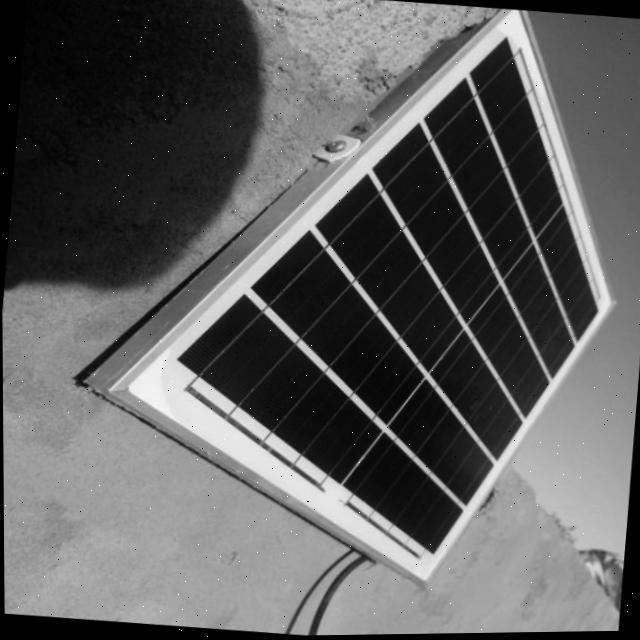Normal Solar Panel: (101, 0, 640, 606)
